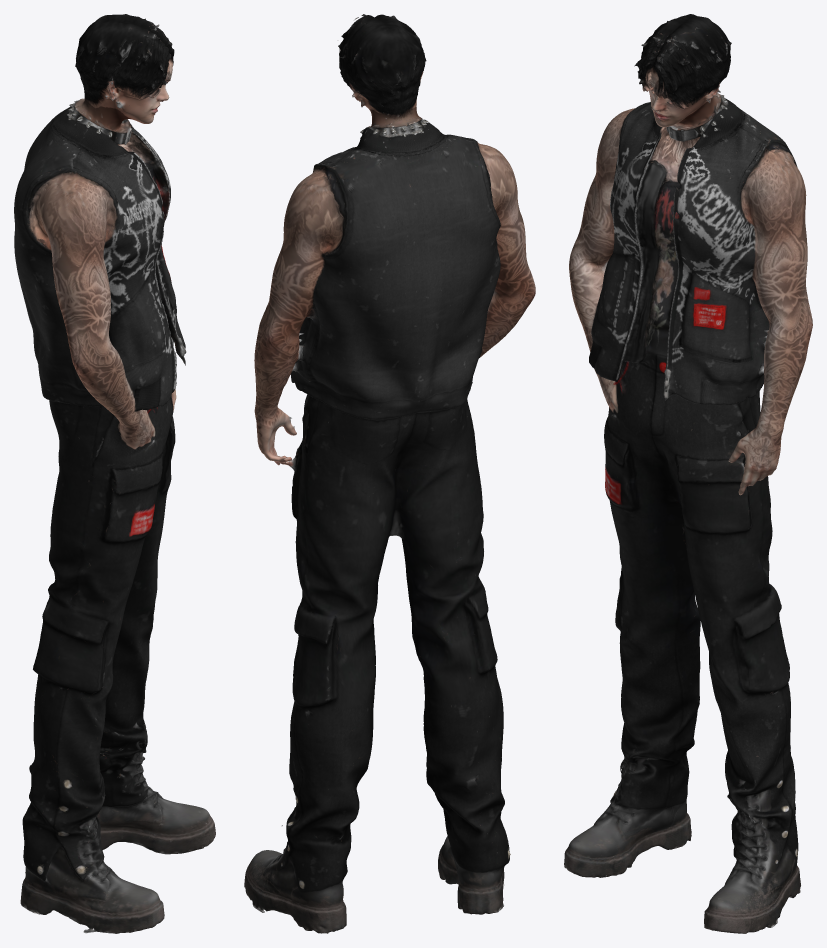
File: korean.glb
3 views of the same model, side by side, from view 1: azimuth 30°, elevation 25°; view 2: azimuth 150°, elevation 25°; view 3: azimuth 270°, elevation 25° (orthographic).
Visible parts, largest first — view 1: Object_4, Object_3, Object_5, Object_2; view 2: Object_4, Object_5, Object_2, Object_3; view 3: Object_2, Object_3, Object_4, Object_5.
Part boxes in pixels (<box>): Object_4: <box>14,14,188,879</box>; Object_3: <box>21,23,214,933</box>; Object_5: <box>14,16,215,933</box>; Object_2: <box>20,15,207,933</box>; Object_4: <box>254,14,535,933</box>; Object_5: <box>251,14,534,933</box>; Object_2: <box>244,15,509,933</box>; Object_3: <box>245,15,530,930</box>; Object_2: <box>570,21,800,933</box>; Object_3: <box>564,23,800,933</box>; Object_4: <box>569,14,812,881</box>; Object_5: <box>564,21,812,932</box>.
Bounding box in the file's own units: 8.93 × 33.92 × 8.78.
2 materials, 2 textured.
